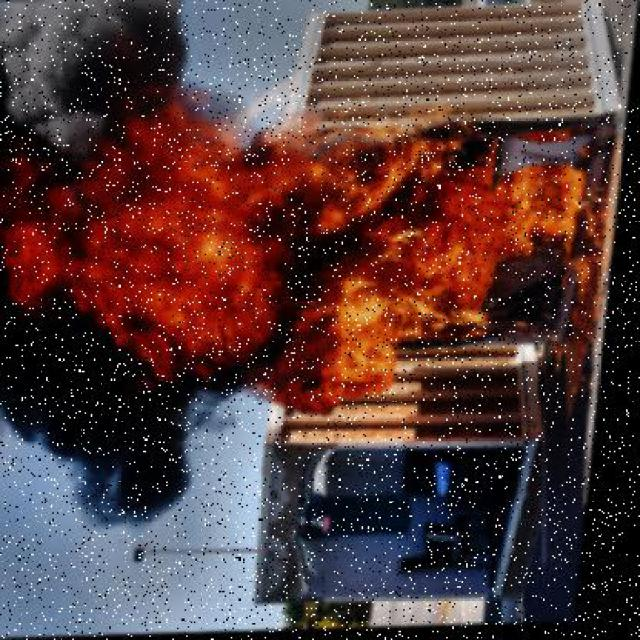fire: (1, 112, 620, 410)
